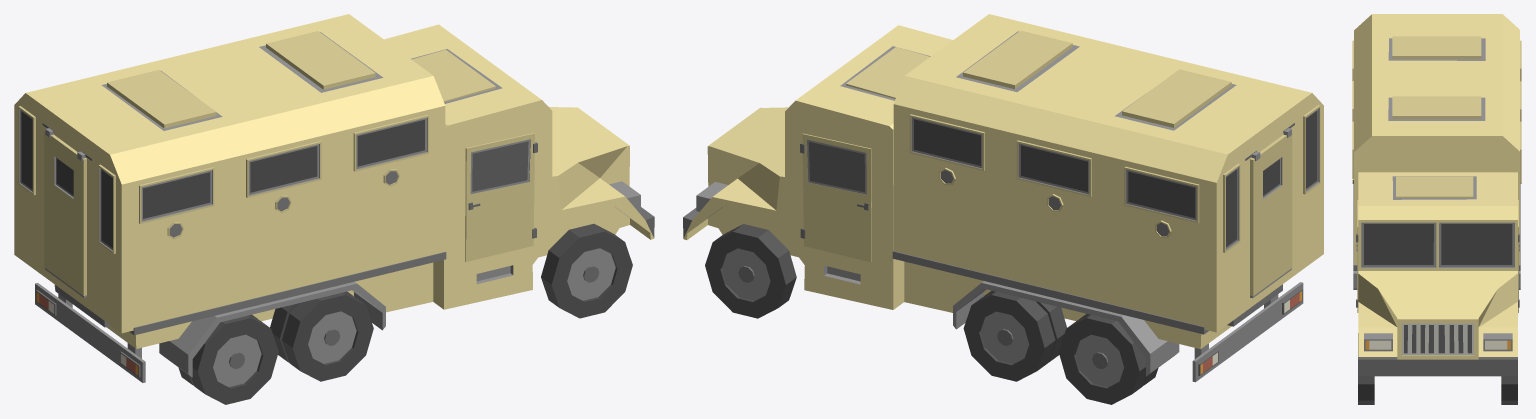
The model's file is kar4.fbx.
3 renders of one model, left to right at view 1: azimuth 30°, elevation 25°; view 2: azimuth 150°, elevation 25°; view 3: azimuth 270°, elevation 25°, orthographic. The views are drawn at different scales.
Visible parts, largest first — view 1: Boole, Cylinder_11, Cylinder_3, Cylinder_2; view 2: Boole, Cylinder_5, Cylinder_6, Cylinder_1; view 3: Boole, Cylinder_3, Cylinder_6.
Boxes of the visible parts, x1,y1,x2,y2 form: Boole: (14, 14, 654, 382); Cylinder_11: (270, 291, 373, 381); Cylinder_3: (541, 223, 632, 318); Cylinder_2: (178, 314, 278, 404); Boole: (683, 14, 1323, 382); Cylinder_5: (963, 290, 1066, 381); Cylinder_6: (705, 224, 796, 318); Cylinder_1: (1058, 313, 1158, 404); Boole: (1352, 14, 1521, 376); Cylinder_3: (1358, 333, 1374, 404); Cylinder_6: (1501, 376, 1517, 404).
Bounding box in the file's own units: 665 × 322 × 234.
